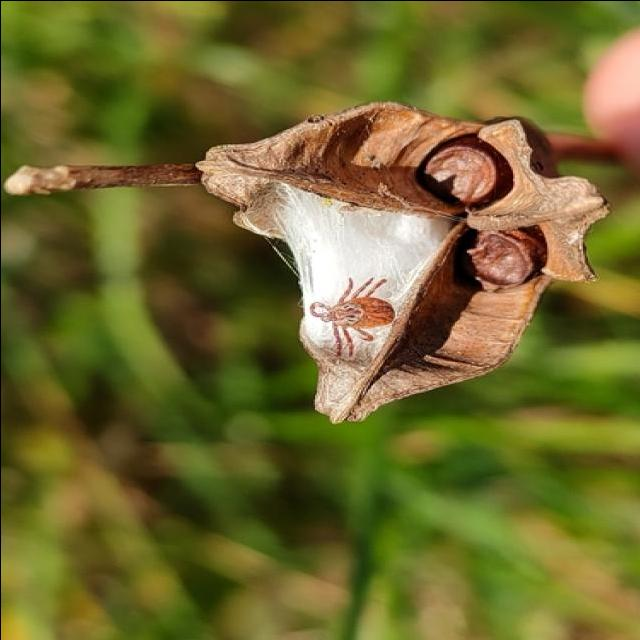Dermacentor Reticulatus-F: (319, 271, 394, 358)
